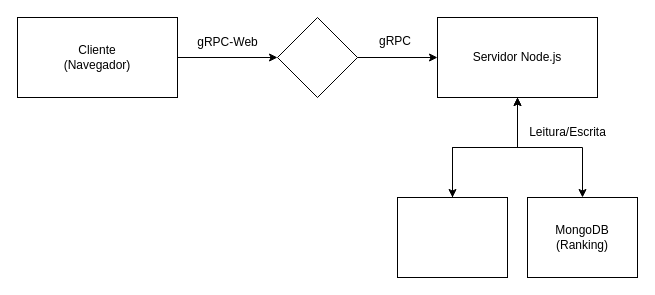
This 655x295 diagram has some shape labels left out. Each missing label, with the centre of its shape:
Proxy Envoy: the point at 317,57
Redis (Estado da Partida): the point at 452,237
